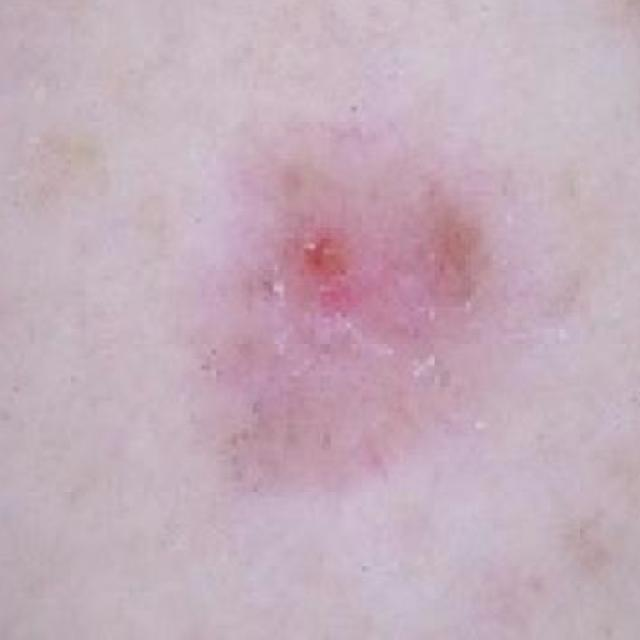BCC: (147, 89, 538, 518)
